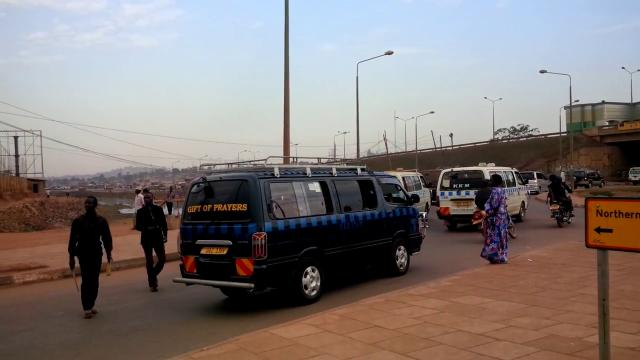car: (520, 171, 547, 194), (570, 170, 606, 187)
motorcycle: (546, 170, 574, 228)
van: (172, 157, 424, 304), (433, 164, 528, 230), (378, 169, 427, 220)
